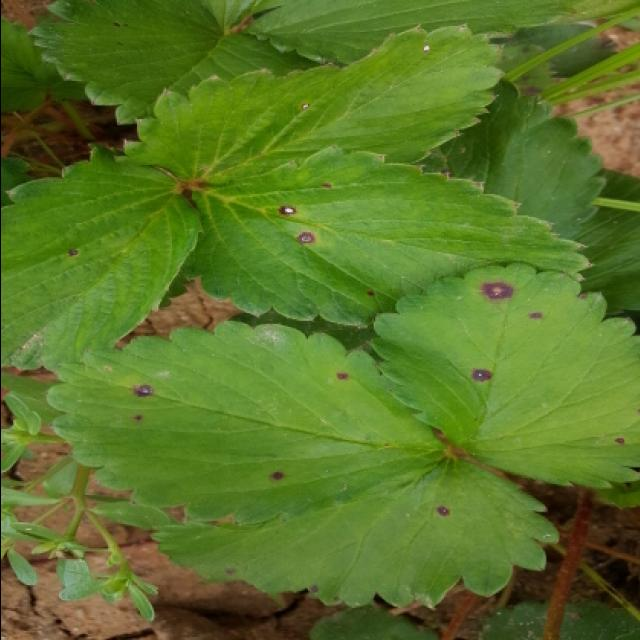Leaf Spot: (44, 317, 454, 526), (182, 145, 592, 328), (149, 451, 561, 610), (116, 24, 504, 189), (367, 261, 640, 491), (2, 145, 199, 376)
